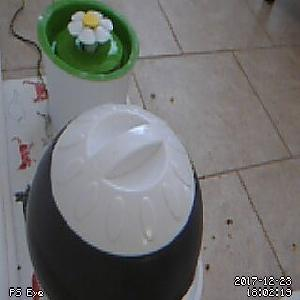fountain: (35, 1, 141, 81)
